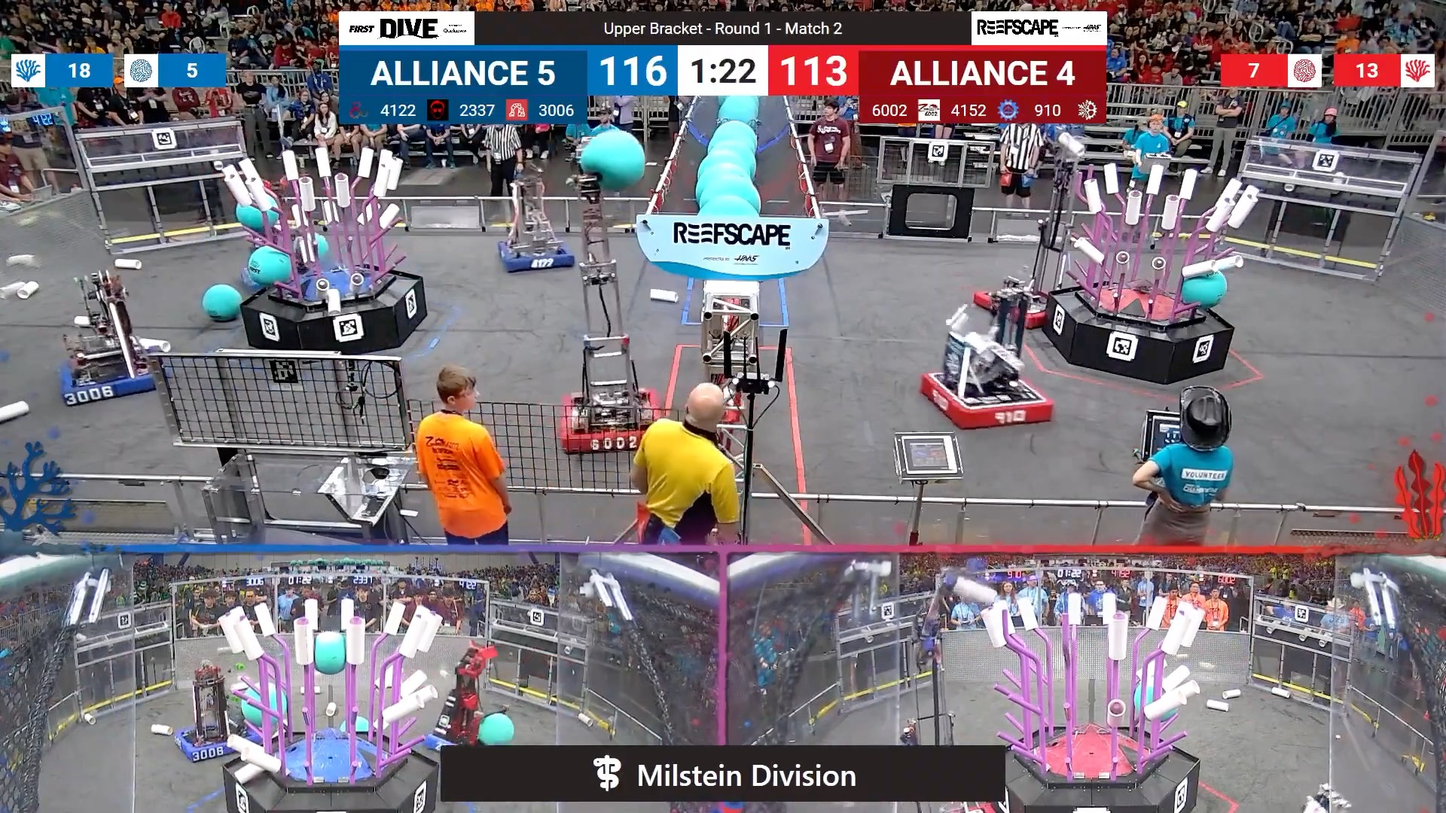bumpers: (914, 369, 1058, 434), (53, 343, 176, 409), (548, 388, 666, 455), (170, 719, 256, 764), (490, 236, 578, 273)
